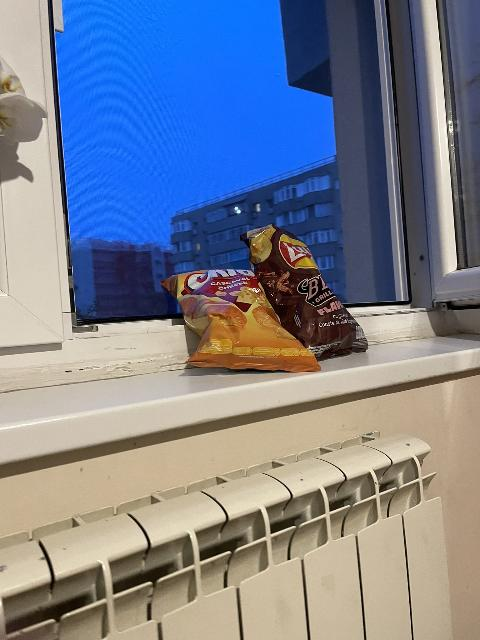Chio Cascaval 125g: (161, 266, 317, 371)
Lays Beef Grilled Ribs 125g: (239, 223, 369, 364)
